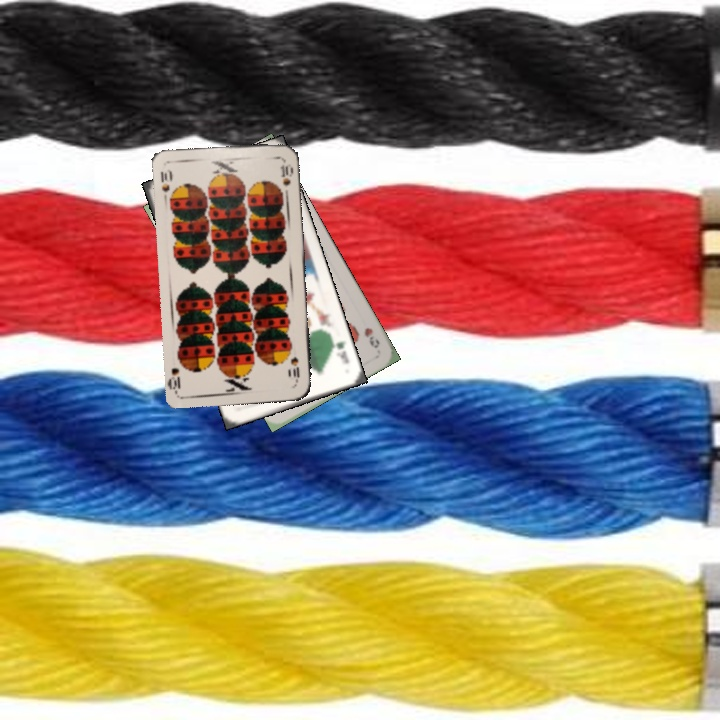GK: (328, 333, 352, 366)
H9: (360, 324, 382, 351)
S10: (157, 165, 175, 204), (287, 353, 302, 385)
